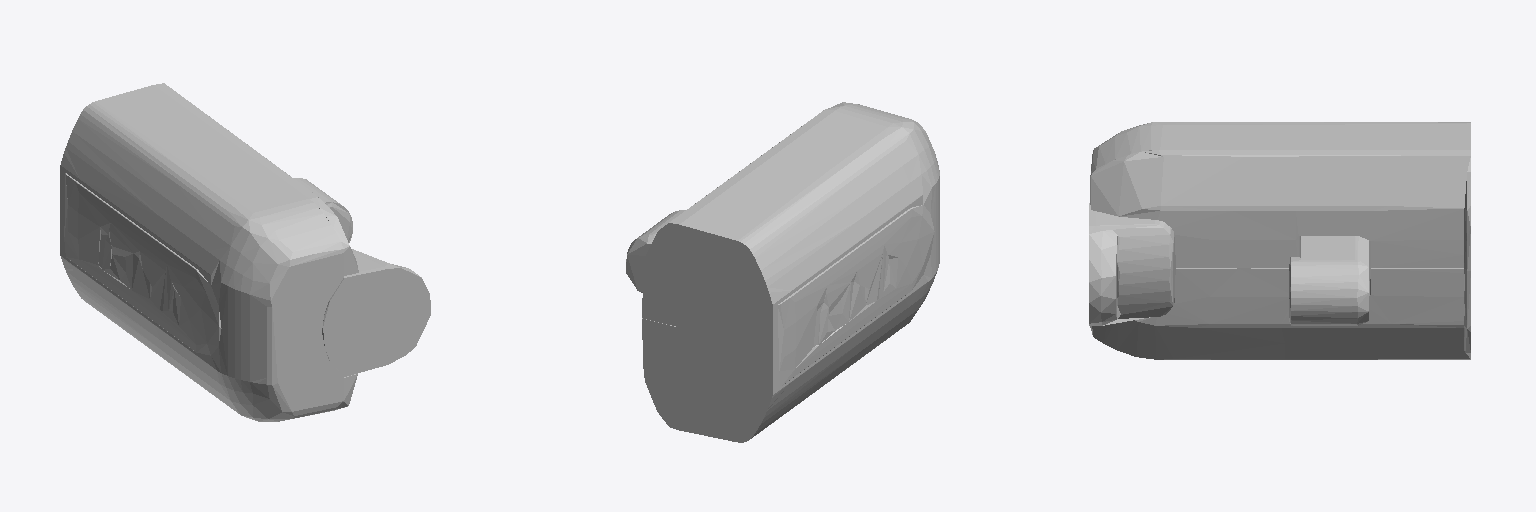
File: torso_lift_link_collision.obj
3 views of the same model, side by side, from view 1: azimuth 30°, elevation 25°; view 2: azimuth 150°, elevation 25°; view 3: azimuth 270°, elevation 25° (orthographic).
Bounding box in the file's own units: 0.3568 × 0.3417 × 0.5745.